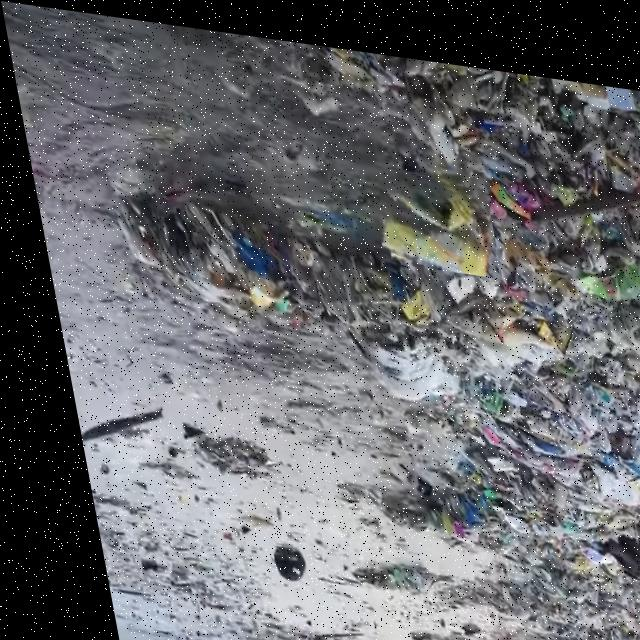plasticcover: (359, 152, 493, 264), (352, 310, 453, 404)
